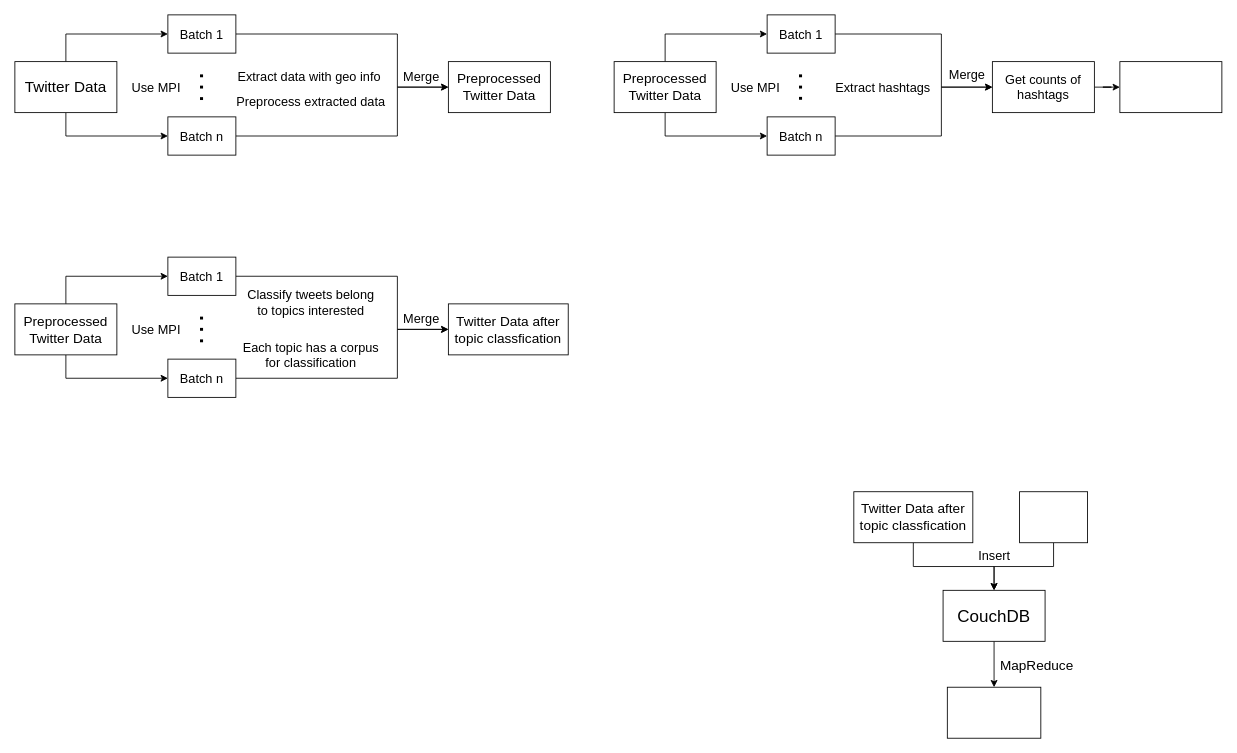
Image size: 1237x753. Some labels were removed from this diagram. The box of each missing label's shape, as (x1, y1, x2, y2) in pixels:
Find popular topics: (1119, 61, 1222, 113)
SUDO: (1019, 491, 1088, 543)
Views: (946, 686, 1041, 738)
